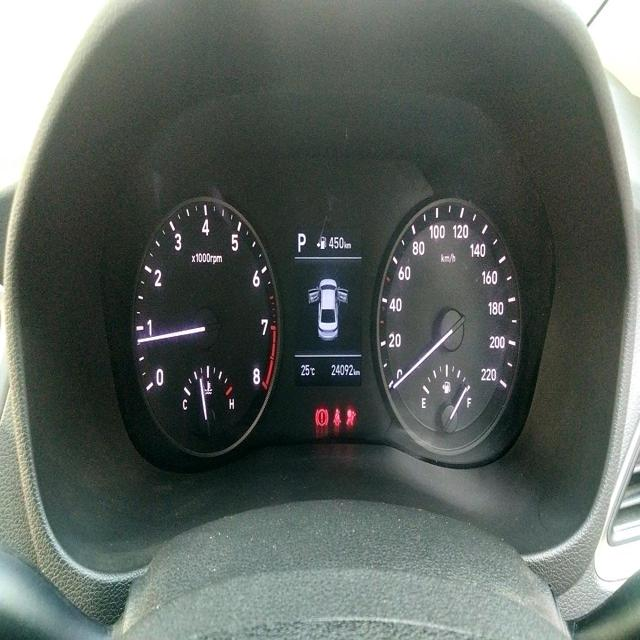odometer: (330, 361, 353, 379)
